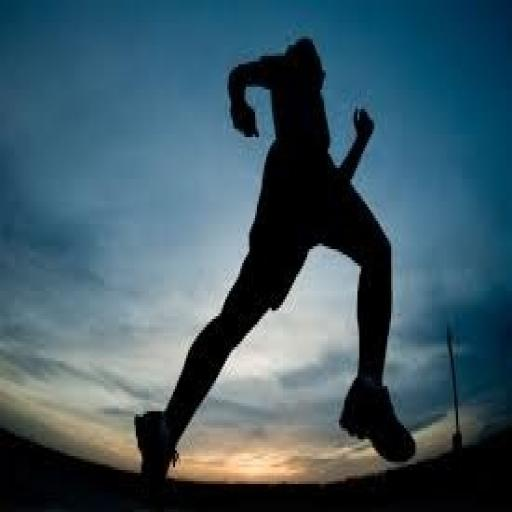running: (130, 31, 421, 492)
